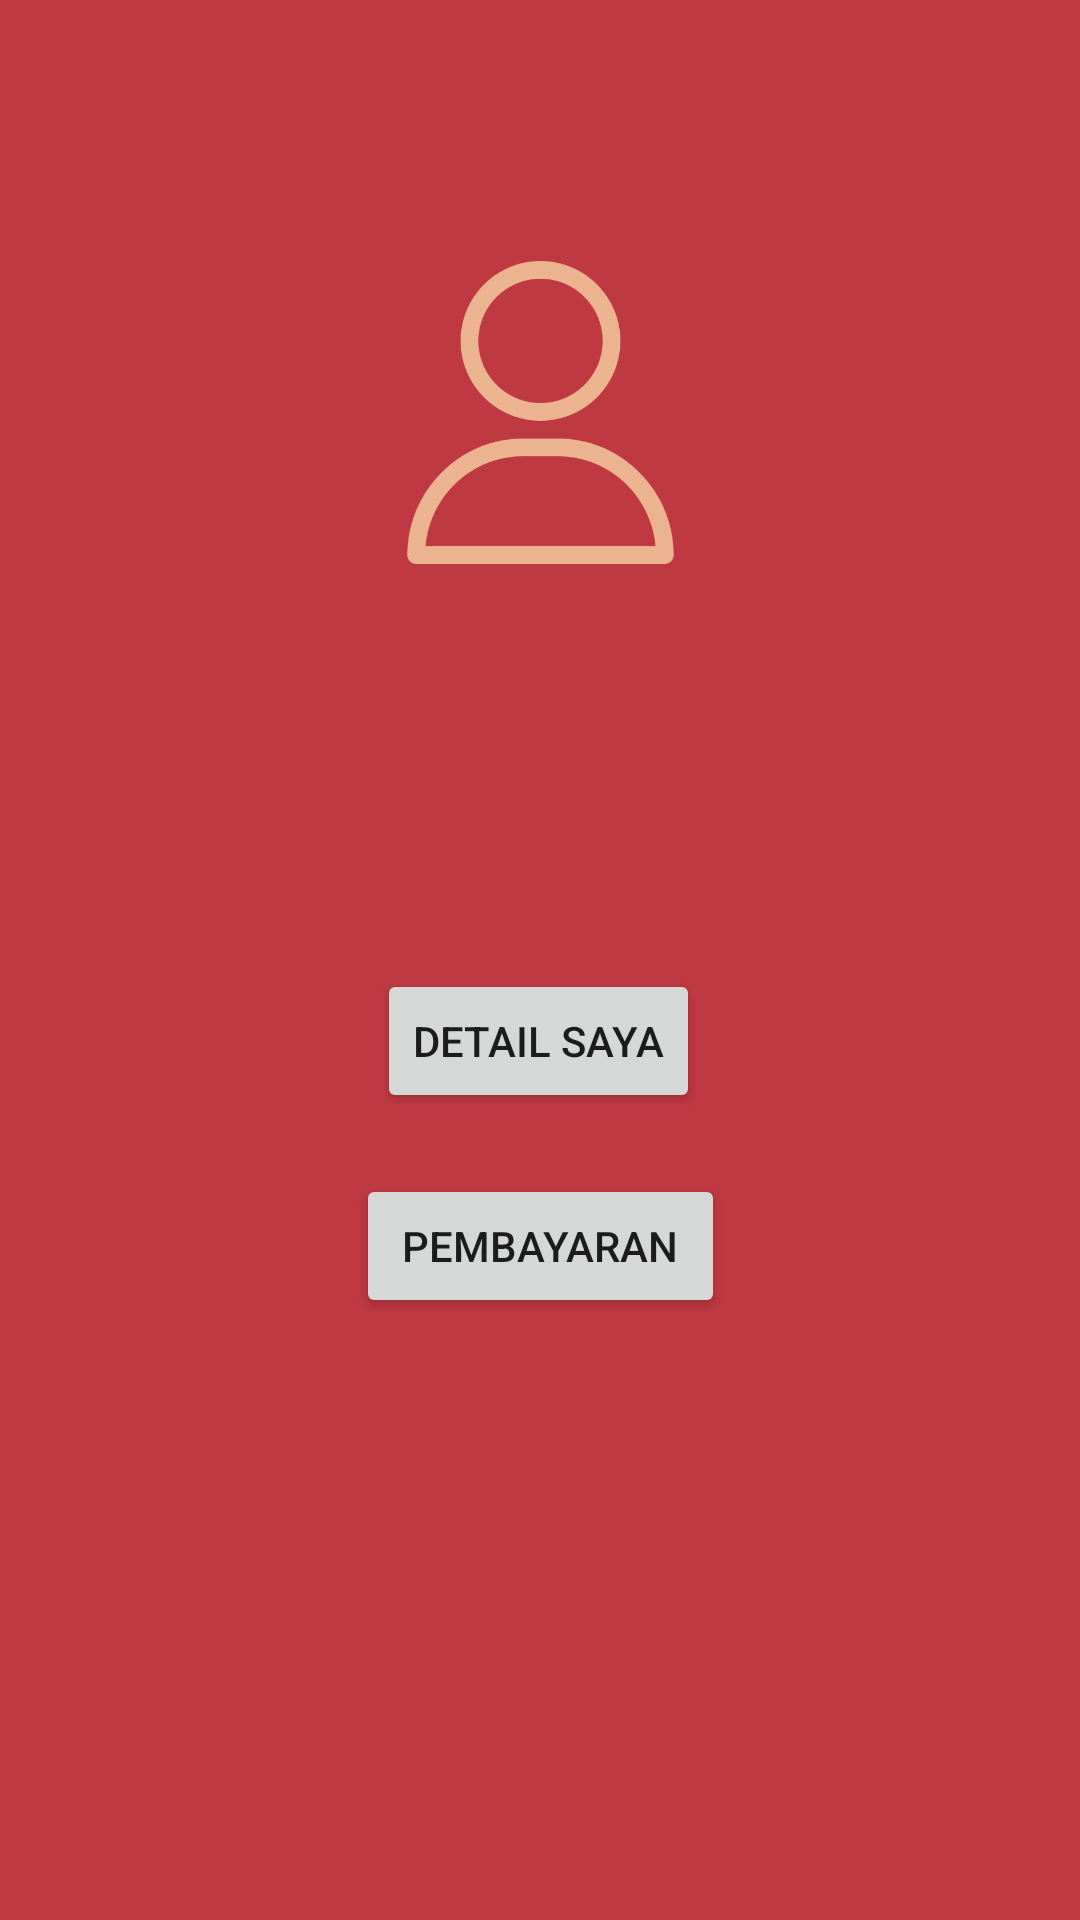

Named icons in this screenshot (1080px×1920px) and their centers, point (x, y):
profile: point (540, 412)
